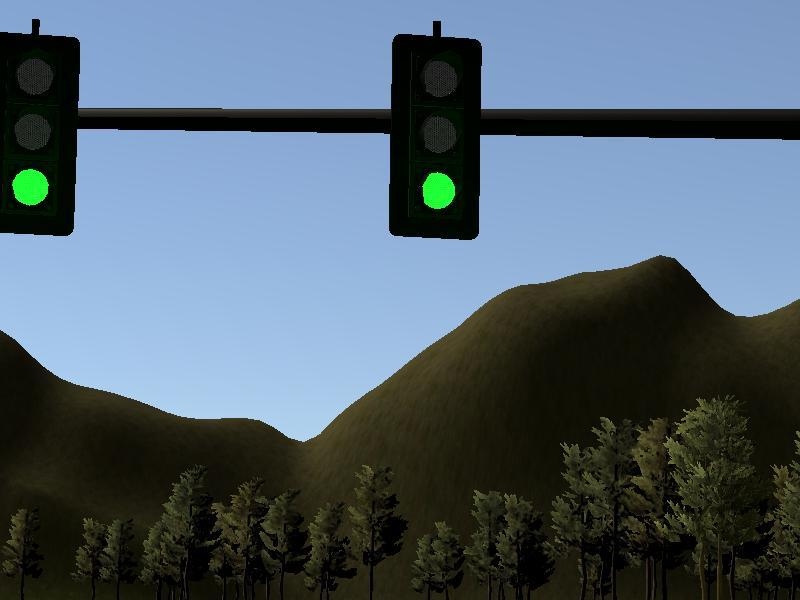Green: (392, 35, 475, 236), (3, 35, 73, 234)
